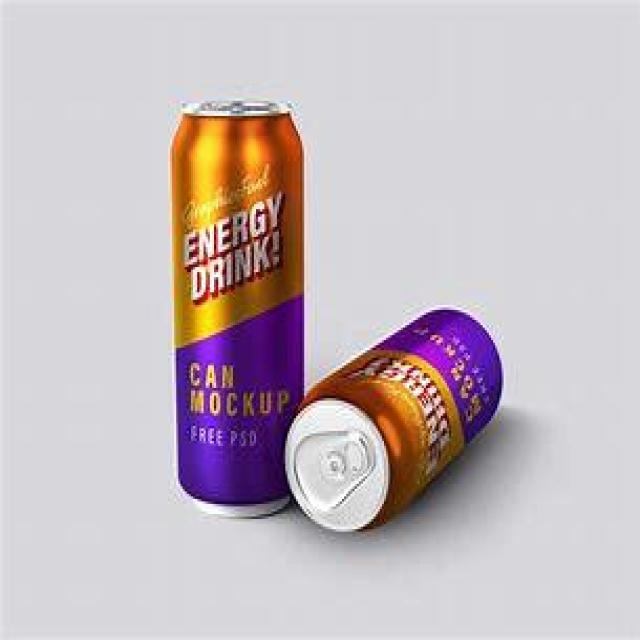can: (170, 99, 308, 522), (283, 305, 508, 537)
pop tab: (319, 428, 375, 488)
